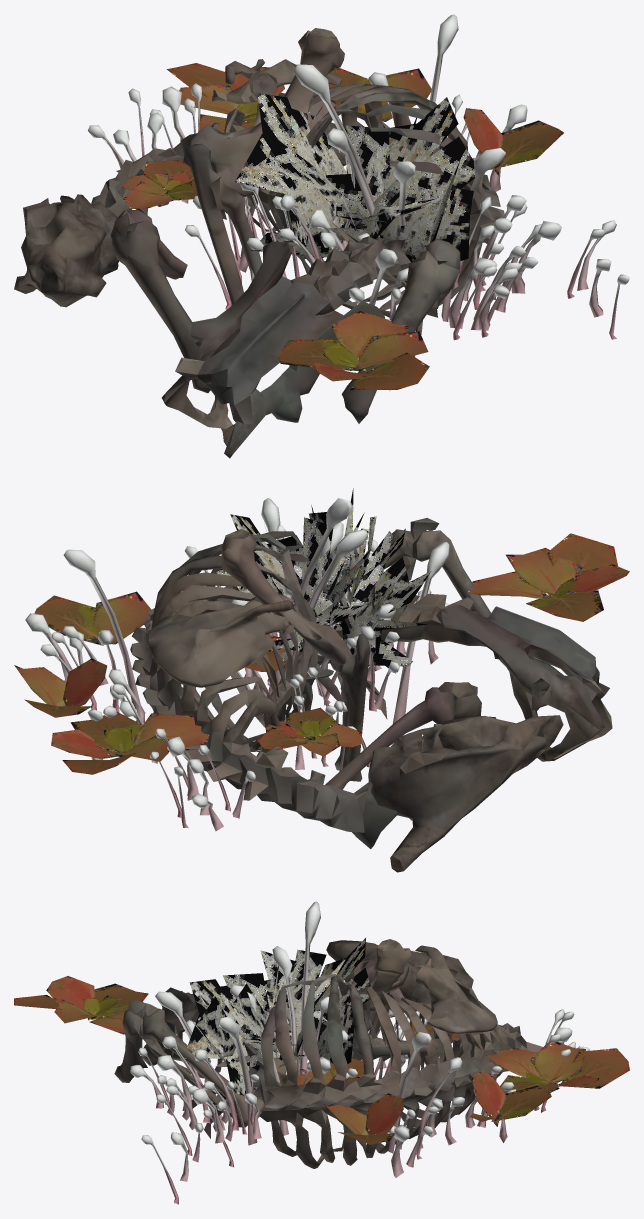
The model's file is AEG003_332-transformed.glb.
3 views of the same model, one above another, from view 1: azimuth 30°, elevation 25°; view 2: azimuth 150°, elevation 25°; view 3: azimuth 270°, elevation 25° (orthographic). The views are drawn at different scales.
Visible parts, largest first — view 1: default; view 2: default; view 3: default.
Boxes of the visible parts, left/top/right/bottom form: default: left=14, top=14, right=629, bottom=458; default: left=14, top=488, right=629, bottom=872; default: left=14, top=901, right=629, bottom=1204.
Bounding box in the file's own units: 2.5 × 1.31 × 3.14.
Materials: 4 (4 with a texture image).
